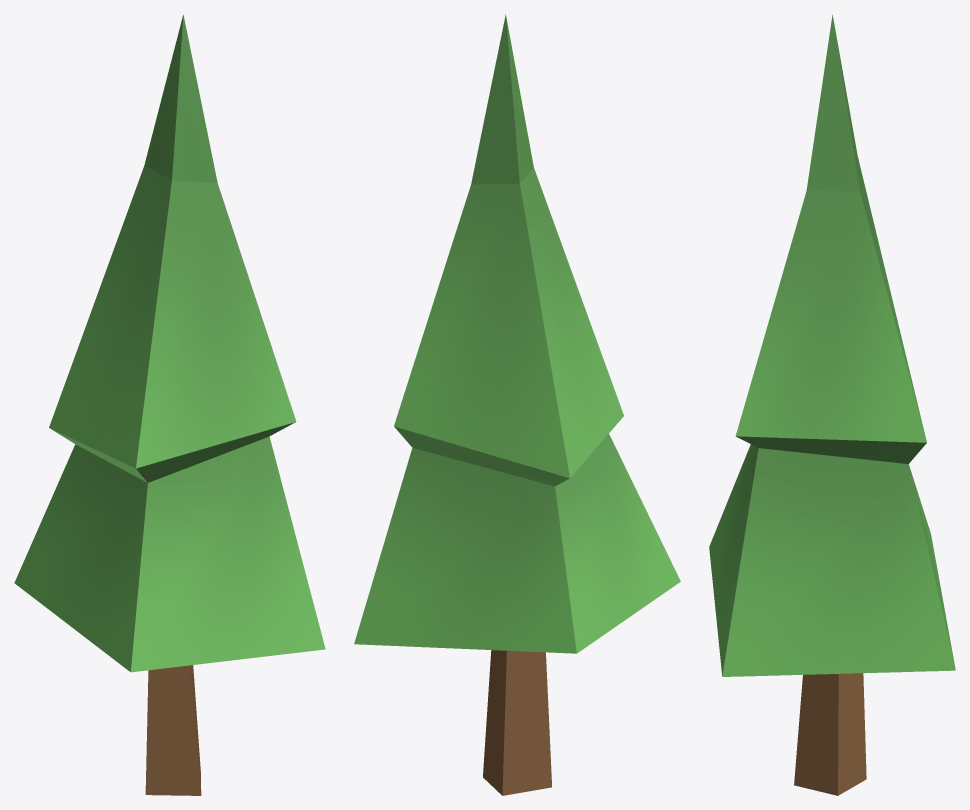
Rendered from Fir_Tree_s_05_LOD.fbx.
3 renders of one model, left to right at view 1: azimuth 30°, elevation 25°; view 2: azimuth 150°, elevation 25°; view 3: azimuth 270°, elevation 25°, orthographic.
Visible parts, largest first — view 1: Fir_Tree_s_05_LOD0; view 2: Fir_Tree_s_05_LOD0; view 3: Fir_Tree_s_05_LOD0.
Boxes of the visible parts, box(x1,y1,x2,y2) form: Fir_Tree_s_05_LOD0: box(14, 14, 325, 795); Fir_Tree_s_05_LOD0: box(354, 14, 680, 795); Fir_Tree_s_05_LOD0: box(709, 15, 955, 795).
Size of what is drawn, in the model's own units: 44.08 by 153 by 44.39.
